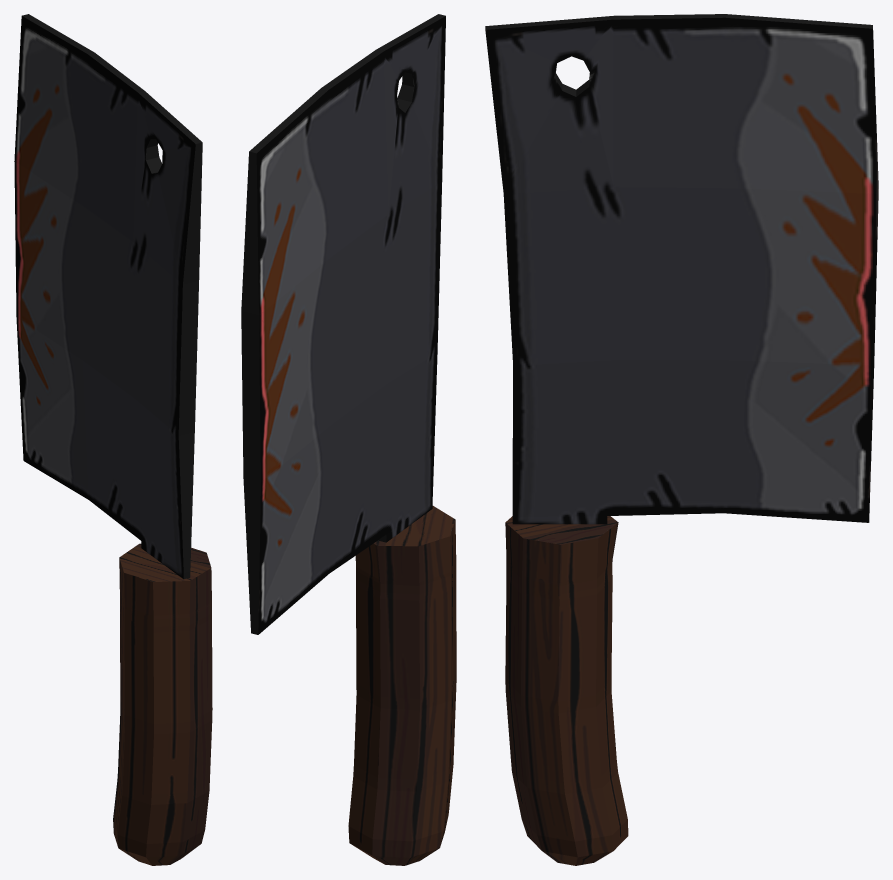
The model's file is Knife.fbx.
3 renders of one model, left to right at view 1: azimuth 30°, elevation 25°; view 2: azimuth 150°, elevation 25°; view 3: azimuth 270°, elevation 25°, orthographic. The views are drawn at different scales.
Parts seen in each view (by area): view 1: Knife; view 2: Knife; view 3: Knife.
Part boxes in pixels (bbox=[...]): Knife: bbox=[14, 14, 212, 865]; Knife: bbox=[241, 14, 456, 865]; Knife: bbox=[485, 14, 878, 865].
Size of the model in its own units: 0.2435 by 0.0657 by 0.5731.
Materials: 1 (1 with a texture image).
